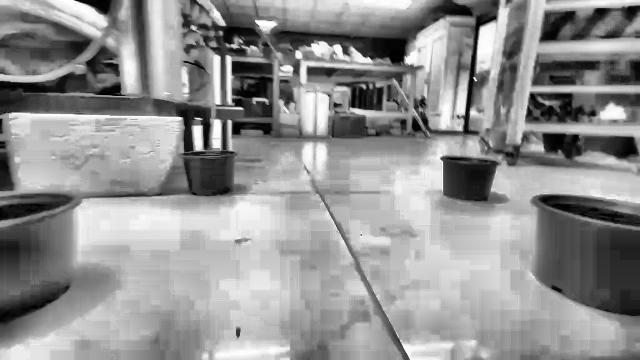pot: (532, 194, 639, 316), (0, 191, 81, 319), (441, 156, 499, 201), (181, 150, 237, 196)
